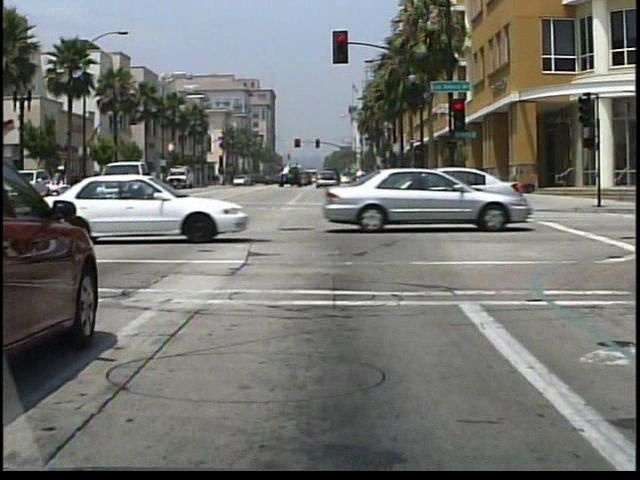person: (48, 164, 72, 213)
